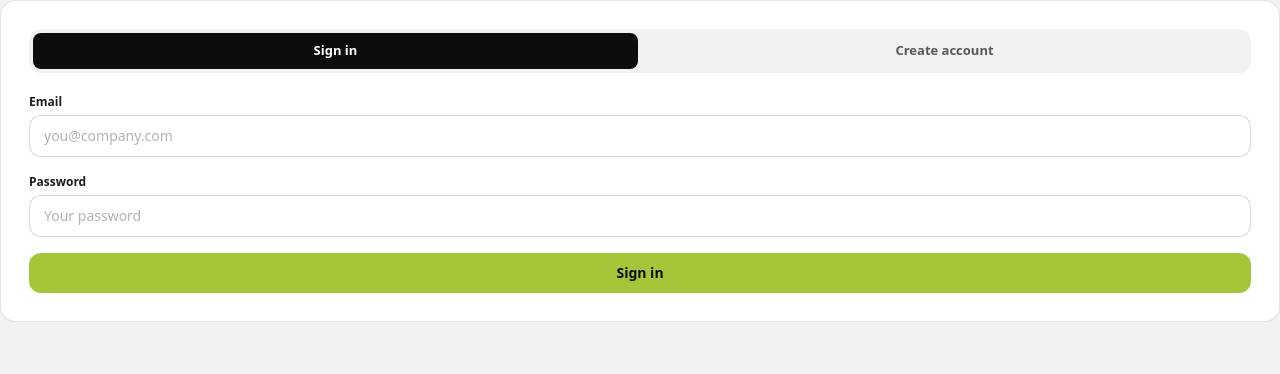
Test case: invitation request recovery › unlocks signin after a rejected network request
Type "CLIENT@example.invalid" into the field labelled "Email" at (640, 136), box x1=29 y1=114 x2=1251 y2=156
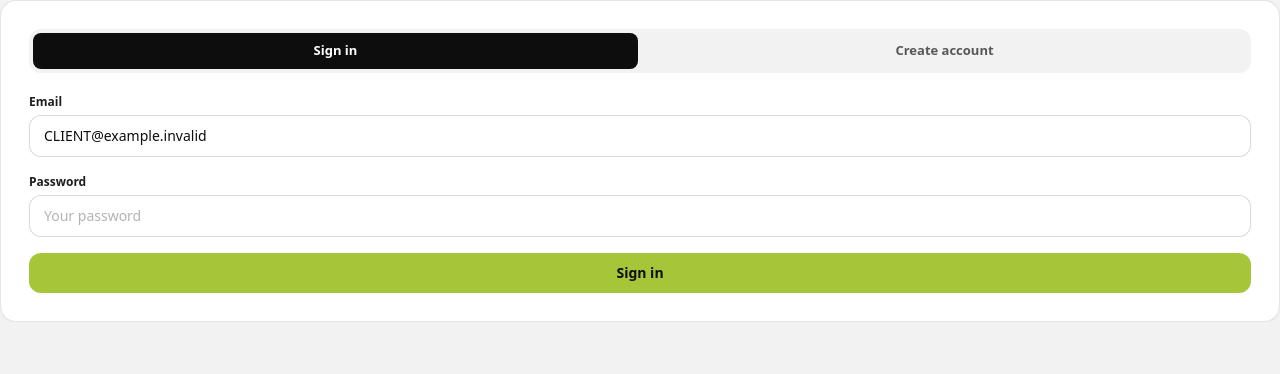
Type "synthetic-test-password" into the password field labelled "Password" at (640, 216), box x1=29 y1=194 x2=1251 y2=236
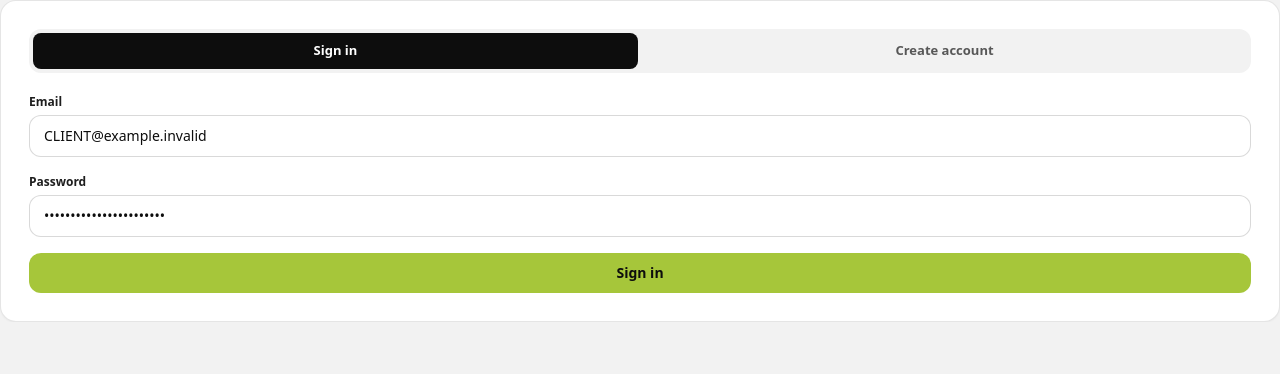
Submit the form, box x1=29 y1=92 x2=1251 y2=292
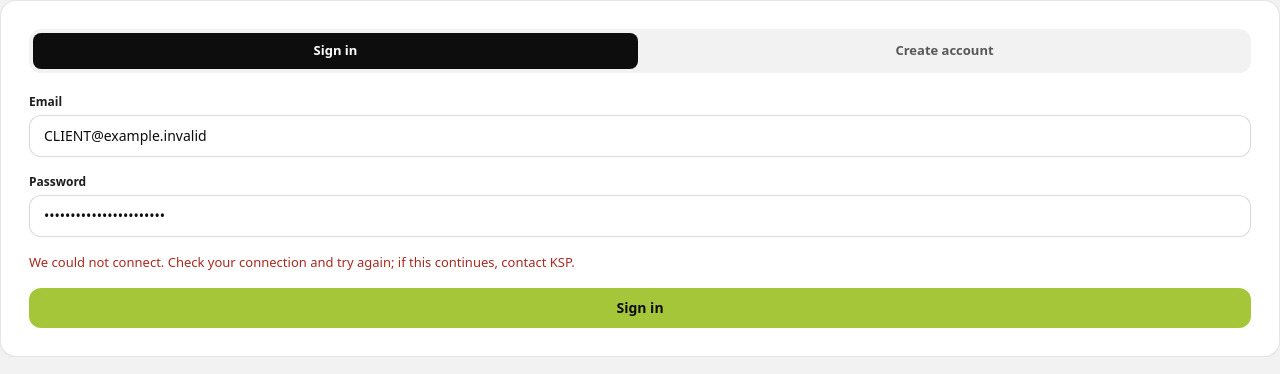
Expected: the submit button is enabled, x1=29 y1=288 x2=1251 y2=328
Expected: the message shows "could not connect", x1=29 y1=252 x2=575 y2=270
